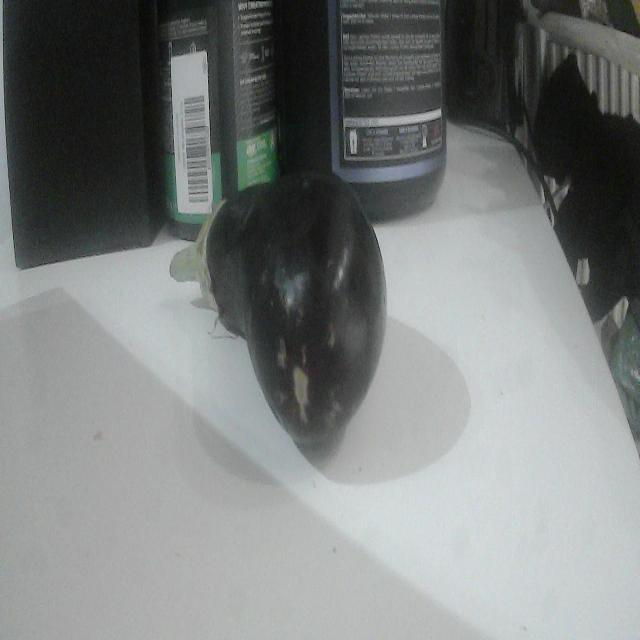Eggplant: (169, 175, 386, 462)
